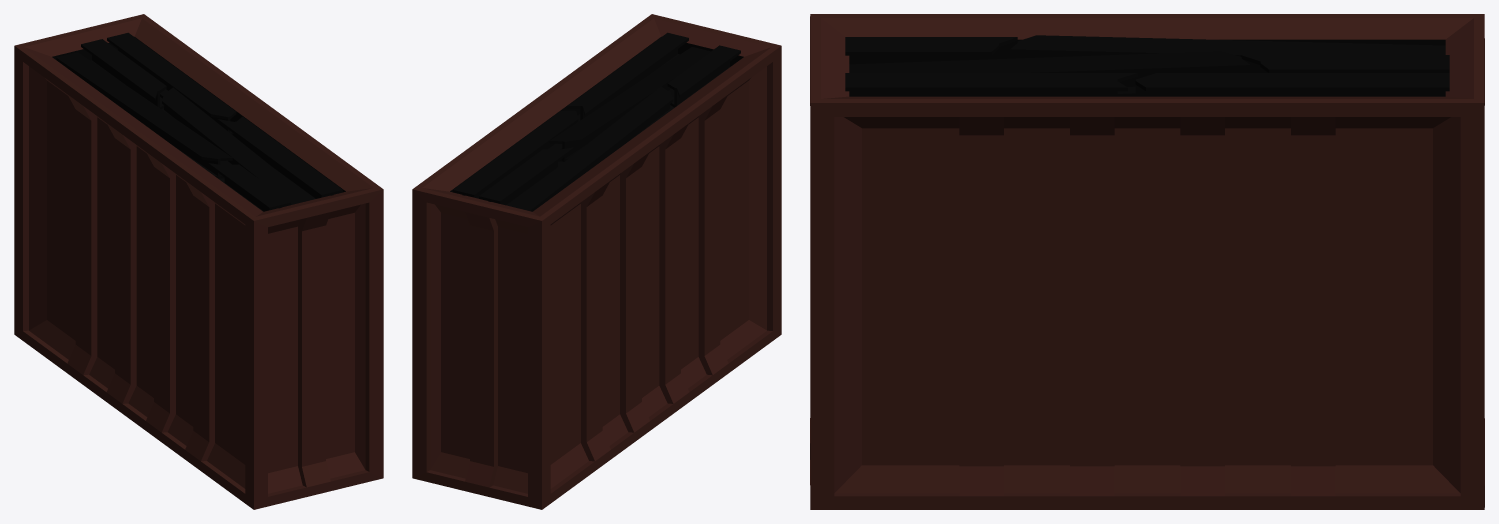
Rendered from Obstacle-04.fbx.
3 views of the same model, side by side, from view 1: azimuth 30°, elevation 25°; view 2: azimuth 150°, elevation 25°; view 3: azimuth 270°, elevation 25° (orthographic). The views are drawn at different scales.
Parts seen in each view (by area): view 1: Crate; view 2: Crate; view 3: Crate.
Boxes of the visible parts, <box> form: Crate: <box>14,14,383,509</box>; Crate: <box>412,14,781,509</box>; Crate: <box>810,14,1484,509</box>.
Size of the model in its own units: 7.5 by 24 by 16.
